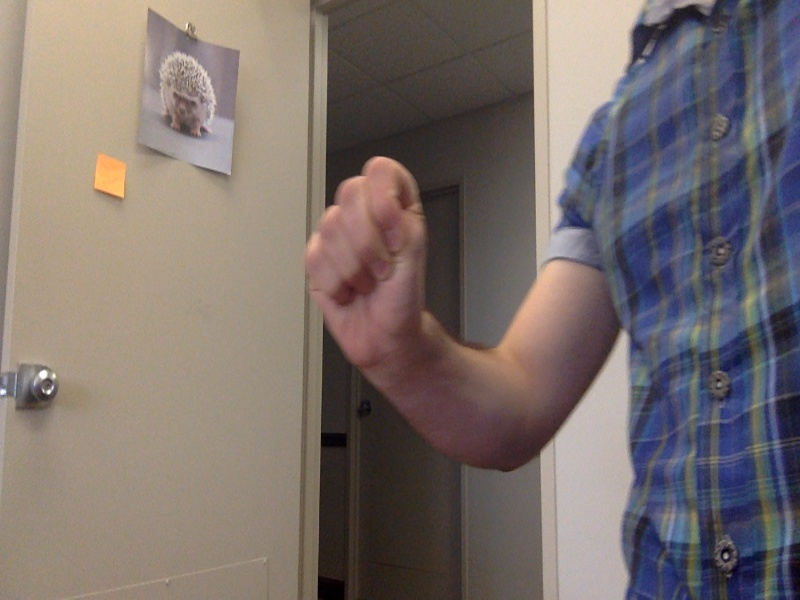0-hand: (301, 156, 432, 371)
